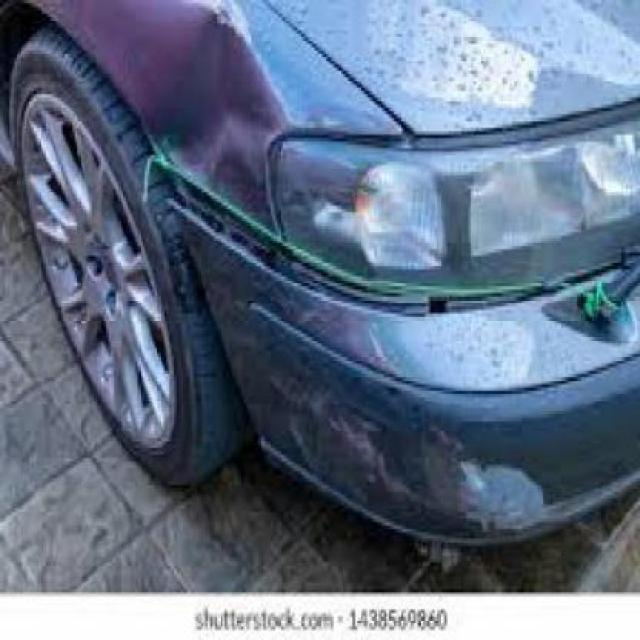fender-dent: (66, 0, 274, 367)
front-bumper-dent: (195, 269, 619, 556)
